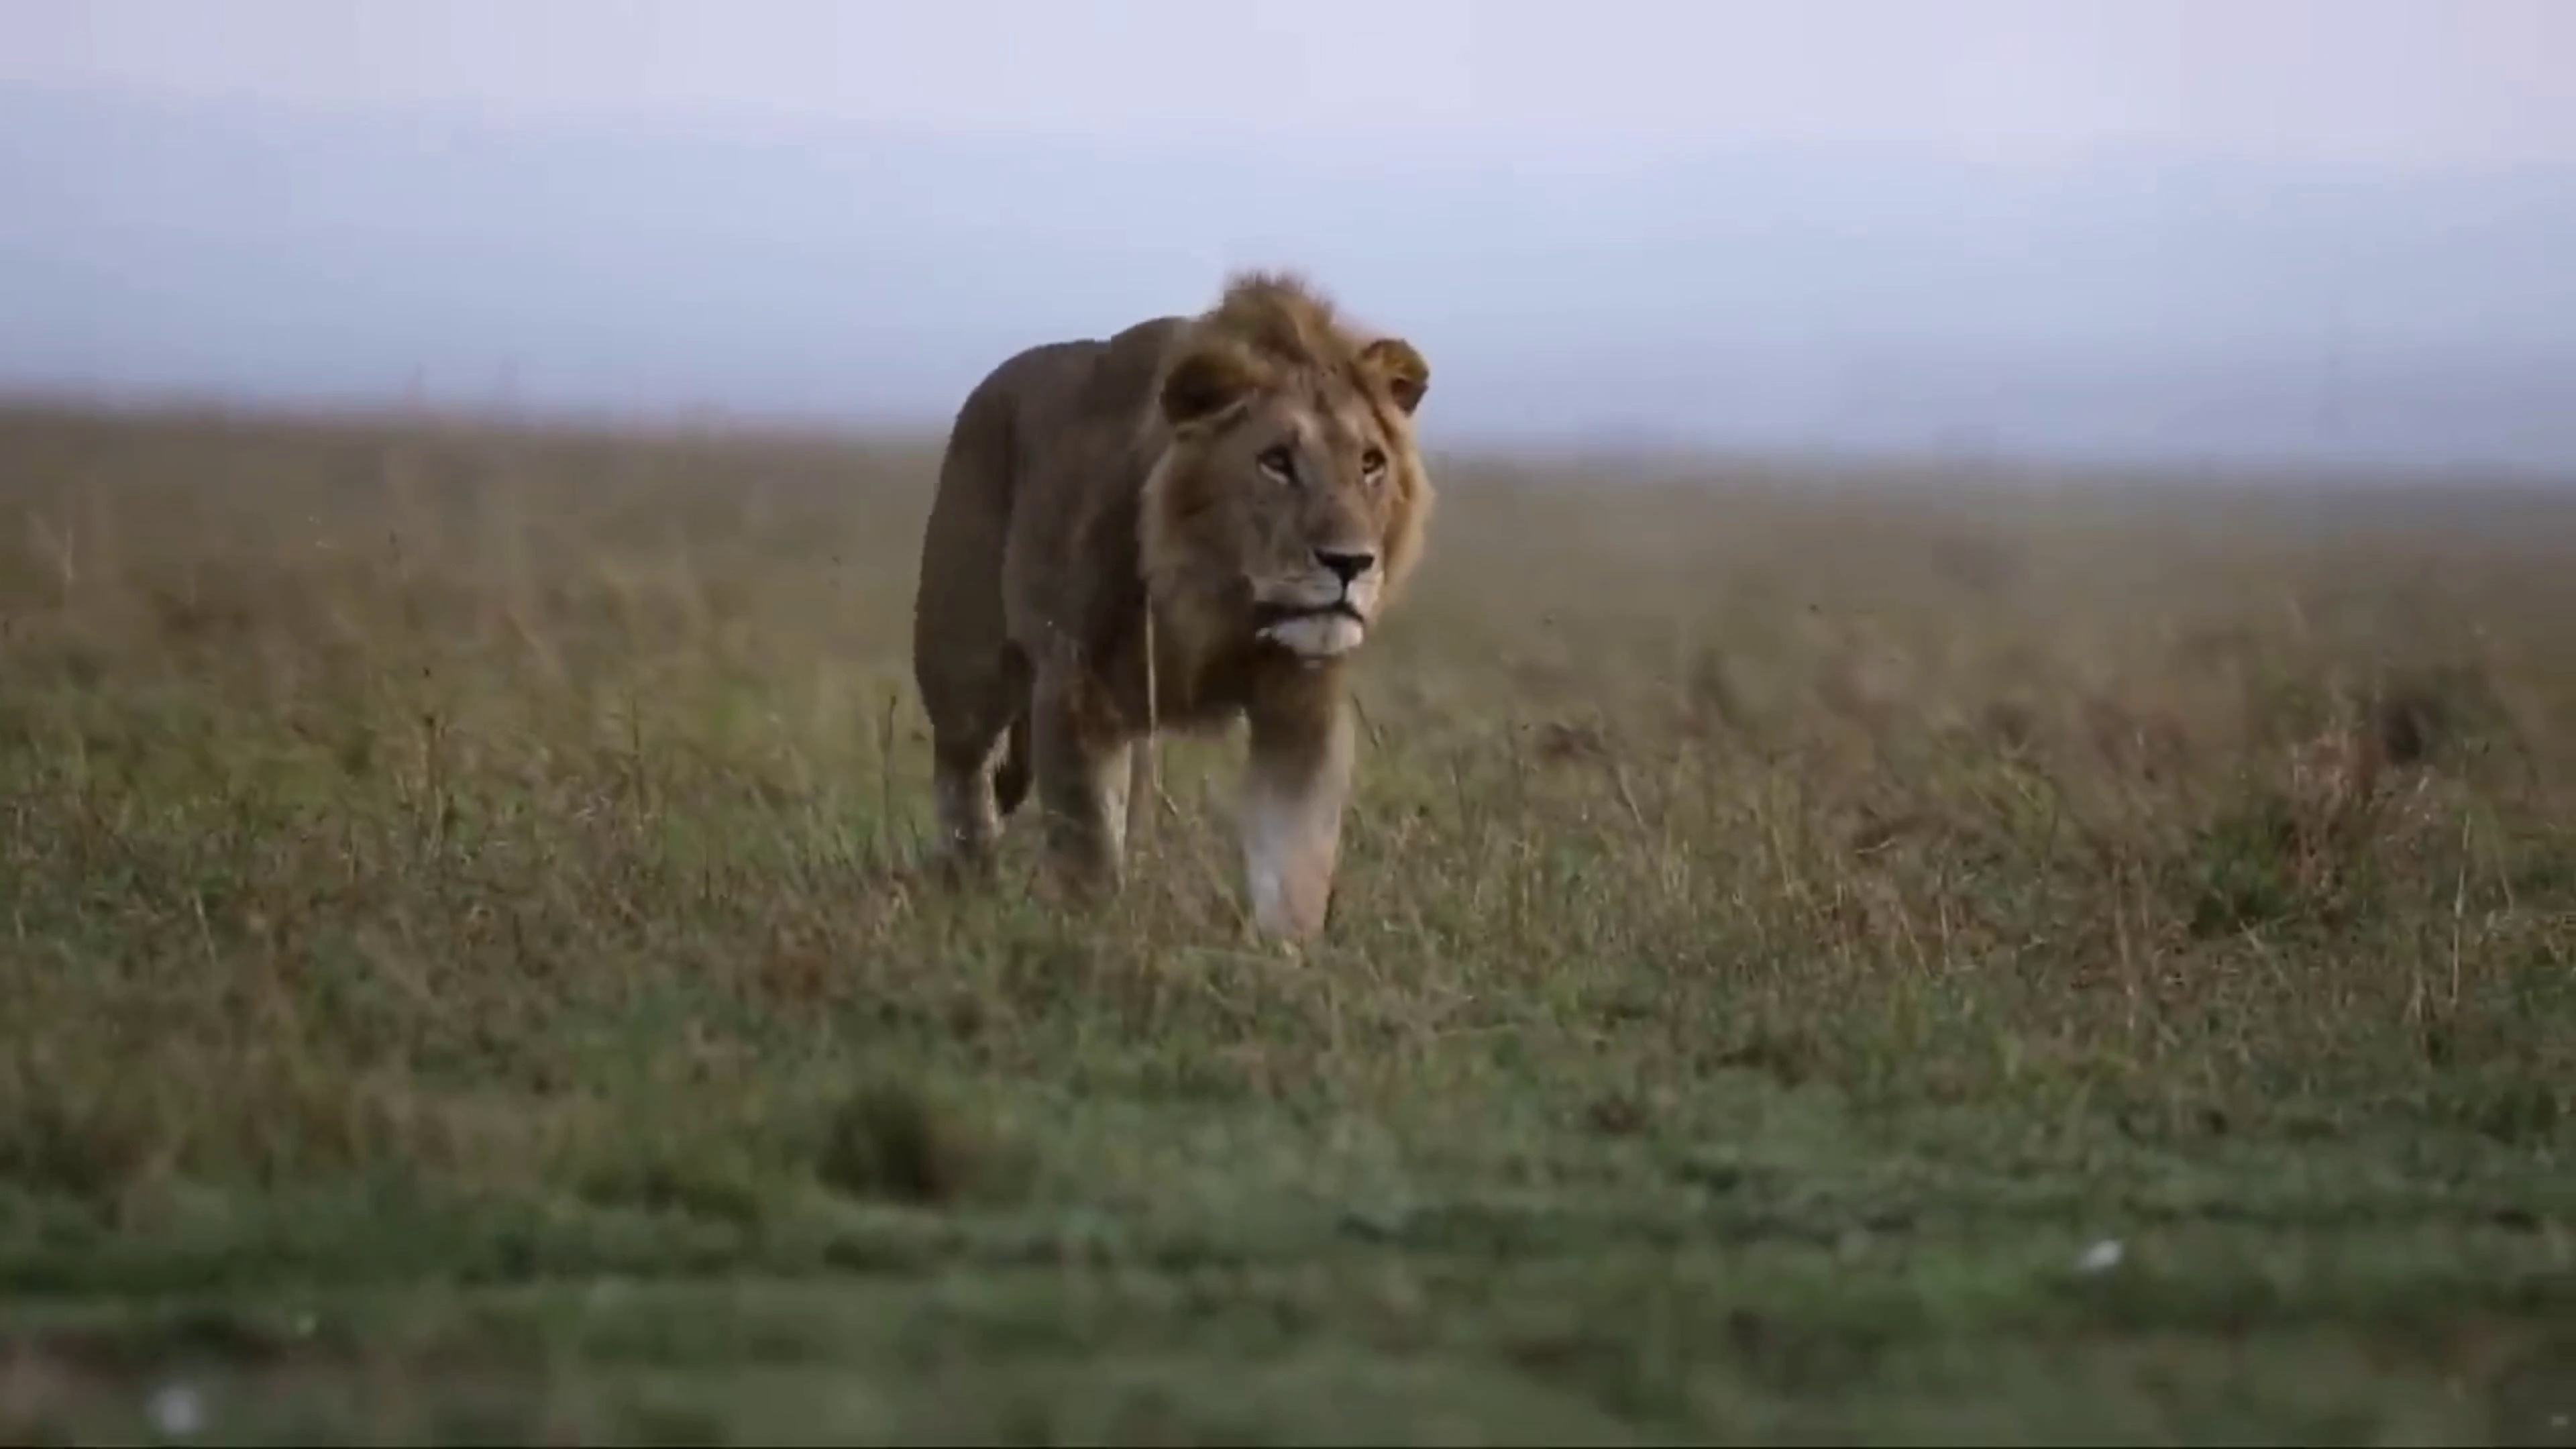Lion: (915, 272, 1440, 955)
